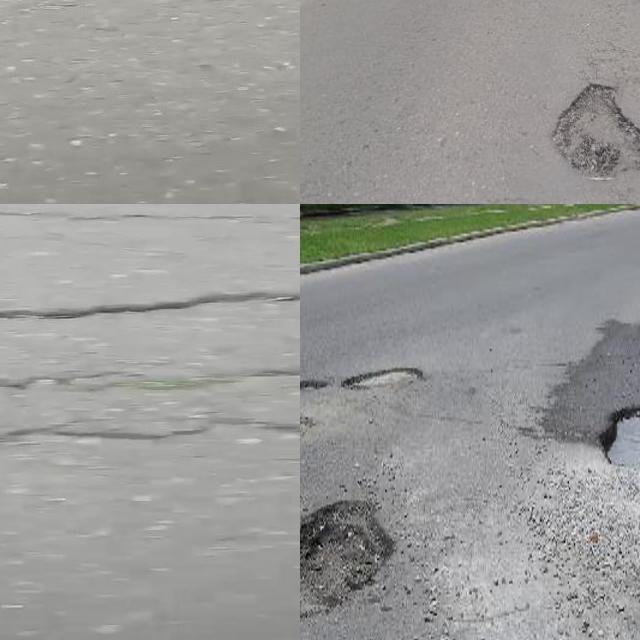Lubang: (300, 502, 406, 624), (546, 85, 640, 175), (330, 362, 430, 396)
Melintang: (0, 282, 300, 334), (0, 412, 300, 450)
